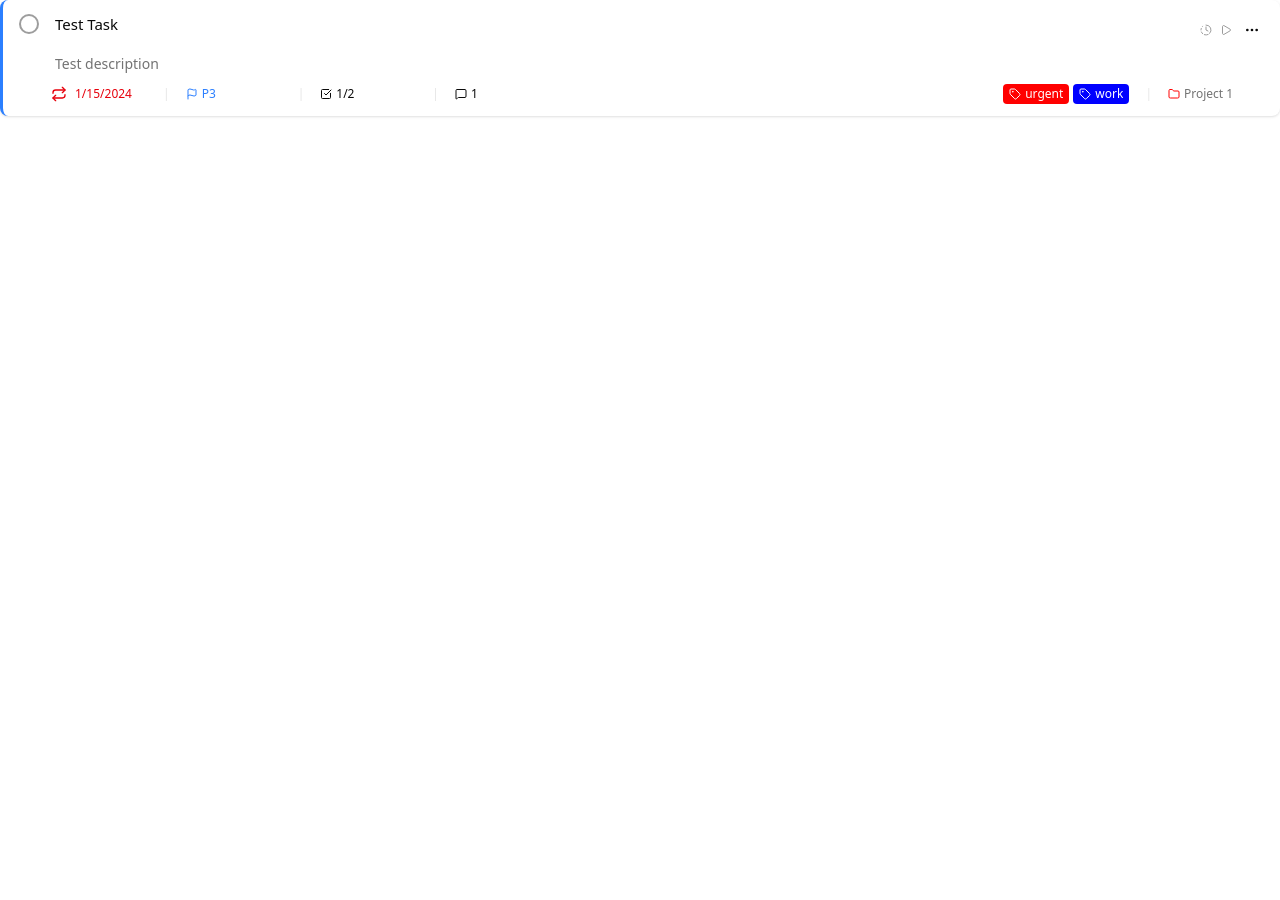
Scenario: TaskItem › Priority Management › opens priority popover when priority is clicked
// Click the priority element to open popover
Click the text "P3" at (201, 94), box left=186, top=85, right=216, bottom=102
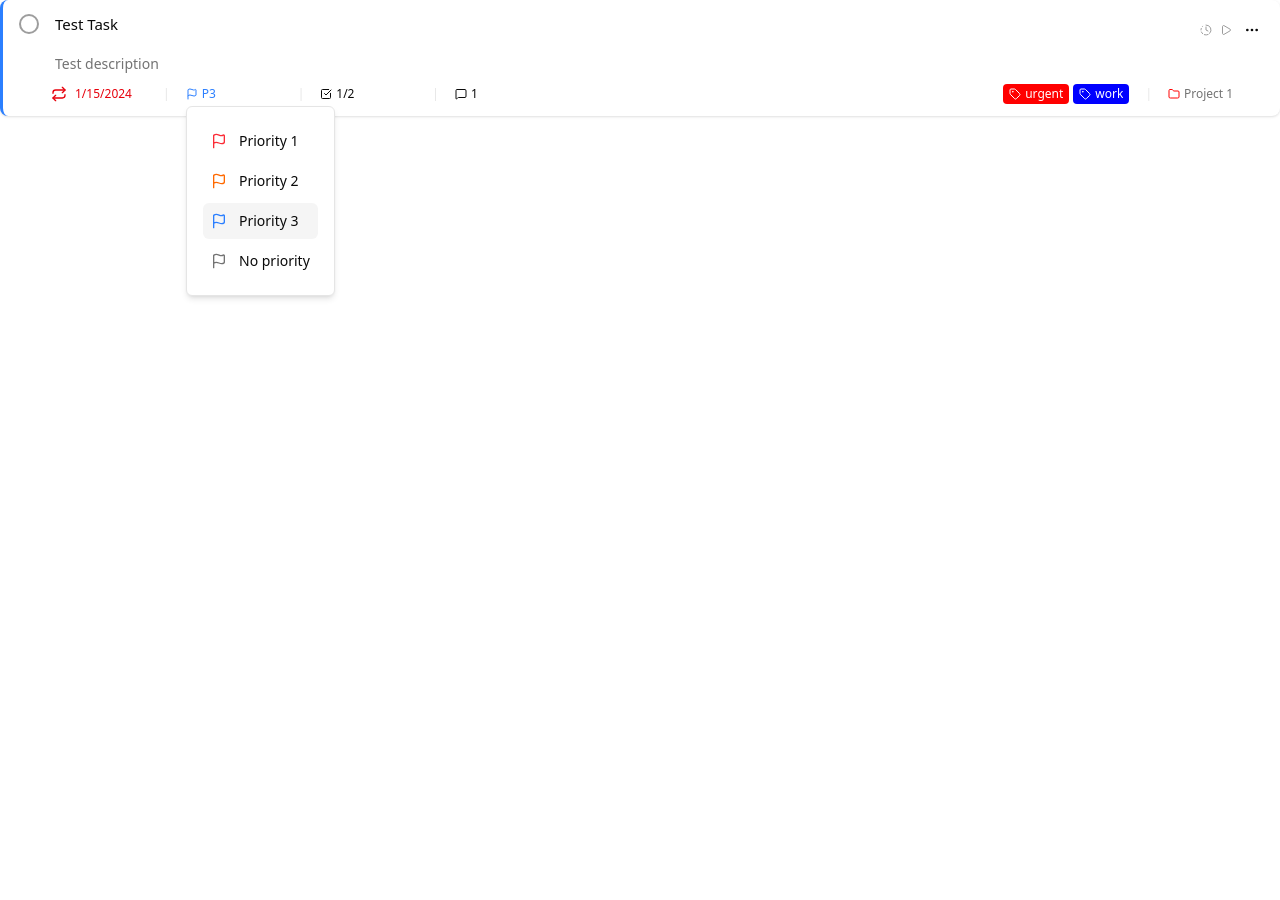
Expected: the text "Priority 1" is shown, left=239, top=131, right=299, bottom=150
Expected: the text "Priority 2" is shown, left=239, top=171, right=299, bottom=190
Expected: the text "Priority 3" is shown, left=239, top=211, right=299, bottom=230
